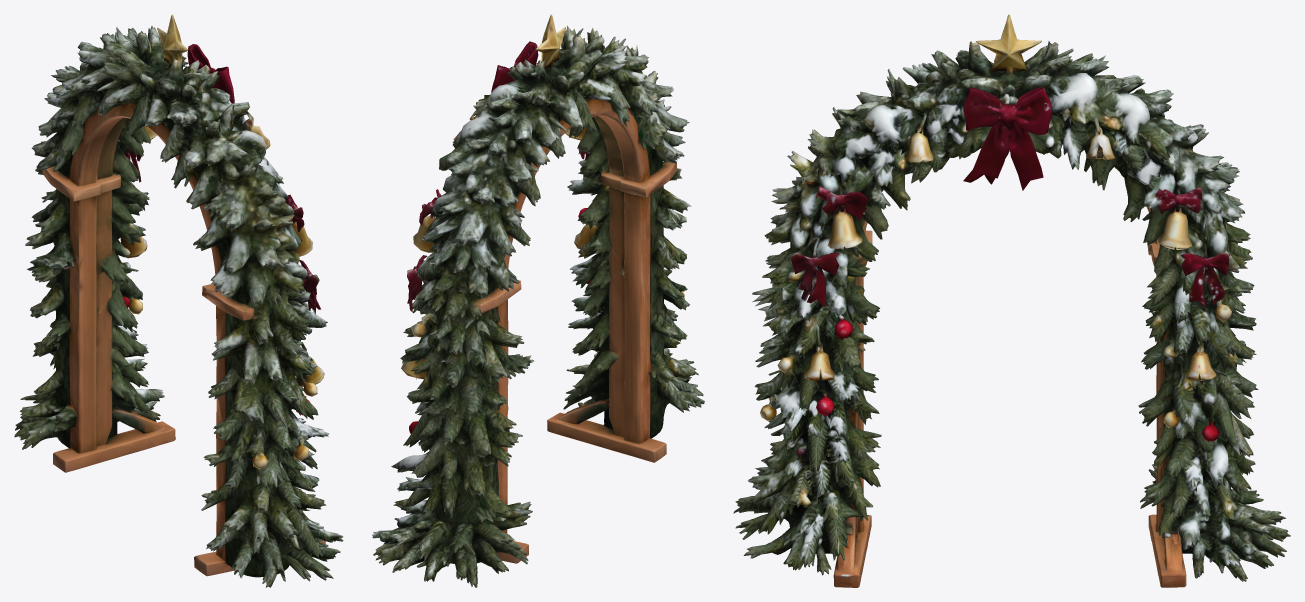
File: christmas-arch-tripo.glb
The picture shows the model from 3 angles, left to right: view 1: azimuth 30°, elevation 25°; view 2: azimuth 150°, elevation 25°; view 3: azimuth 270°, elevation 25°; orthographic projection. The views are drawn at different scales.
Parts seen in each view (by area): view 1: tripo_node_872e84ec-6ce1-4d62-a60c-b87c5dc48355; view 2: tripo_node_872e84ec-6ce1-4d62-a60c-b87c5dc48355; view 3: tripo_node_872e84ec-6ce1-4d62-a60c-b87c5dc48355.
Part boxes in pixels (x1,y1,x2,y2): tripo_node_872e84ec-6ce1-4d62-a60c-b87c5dc48355: [14, 14, 343, 587]; tripo_node_872e84ec-6ce1-4d62-a60c-b87c5dc48355: [372, 14, 704, 587]; tripo_node_872e84ec-6ce1-4d62-a60c-b87c5dc48355: [733, 14, 1290, 587].
Bounding box in the file's own units: 0.2918 × 0.9804 × 0.9244.
Materials: 1 (1 with a texture image).
